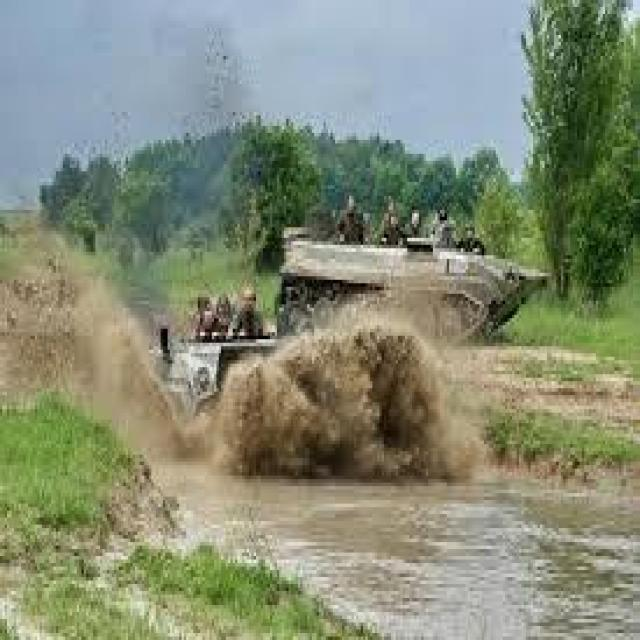Tanks: (237, 140, 561, 385), (145, 257, 320, 495)
